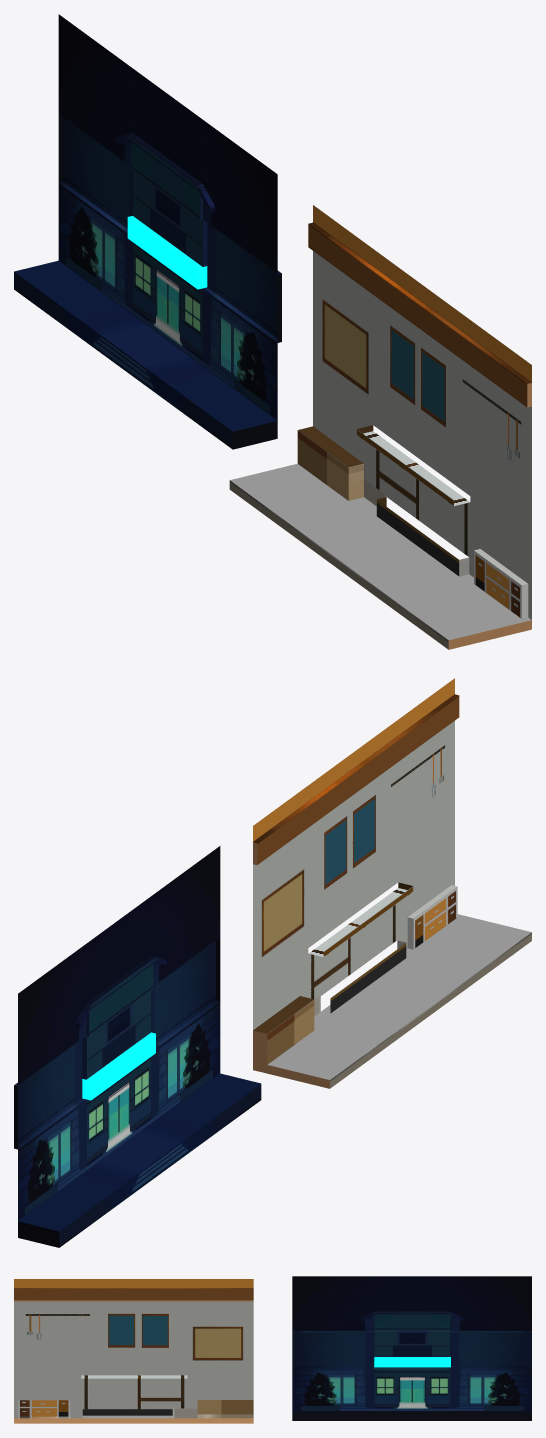
The picture shows the model from 3 angles, top to bottom: view 1: azimuth 30°, elevation 25°; view 2: azimuth 150°, elevation 25°; view 3: azimuth 270°, elevation 25°; orthographic projection. The views are drawn at different scales.
Parts seen in each view (by area): view 1: Garage, police station; view 2: Garage, police station; view 3: police station, Garage.
Boxes of the visible parts, <box> form: Garage: <box>229,205,531,649</box>; police station: <box>14,14,281,449</box>; Garage: <box>253,678,531,1088</box>; police station: <box>14,846,261,1247</box>; police station: <box>292,1276,531,1420</box>; Garage: <box>14,1279,253,1423</box>.
Bounding box in the file's own units: 715 × 2095 × 6682.
Materials: 5 (2 with a texture image).
